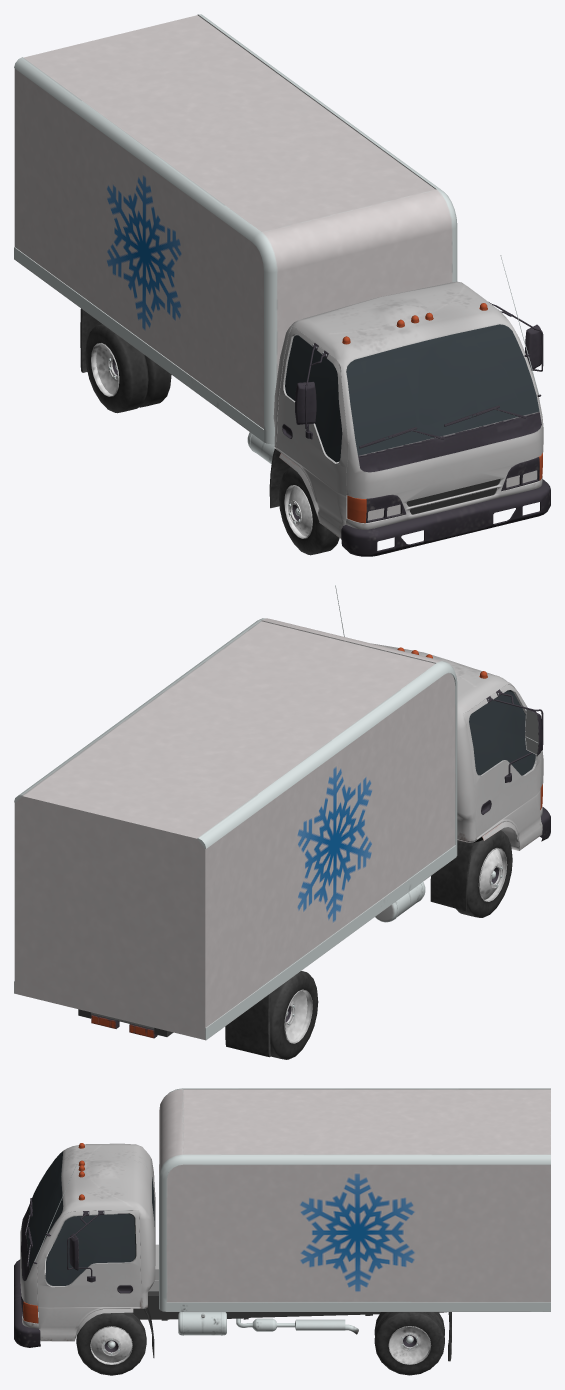
The model's file is car-ozVVV.glb.
3 renders of one model, top to bottom at view 1: azimuth 30°, elevation 25°; view 2: azimuth 150°, elevation 25°; view 3: azimuth 270°, elevation 25°, orthographic. The views are drawn at different scales.
Visible parts, largest first — view 1: Truck; view 2: Truck; view 3: Truck.
Boxes of the visible parts, x1,y1,x2,y2 form: Truck: [14, 14, 550, 556]; Truck: [14, 585, 550, 1059]; Truck: [14, 1088, 550, 1375].
Bounding box in the file's own units: 15.74 × 17.49 × 38.83.
Materials: 2 (1 with a texture image).
